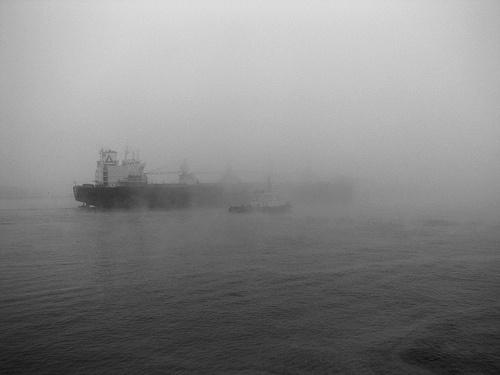boat: (71, 146, 365, 210), (227, 179, 294, 216)
